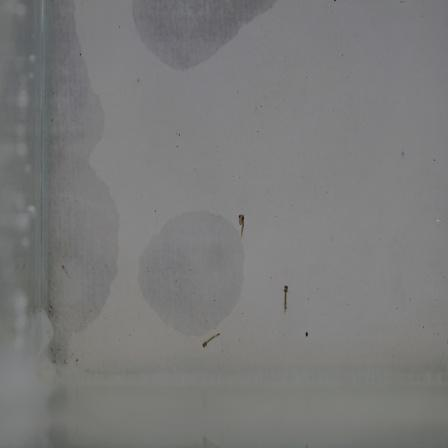Jentik-Nyamuk: (277, 282, 294, 315), (199, 329, 223, 350), (234, 209, 248, 239)
